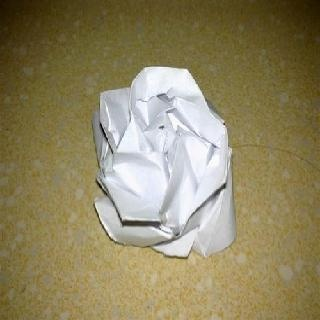8/可回收垃圾/纸: (91, 66, 238, 259)
